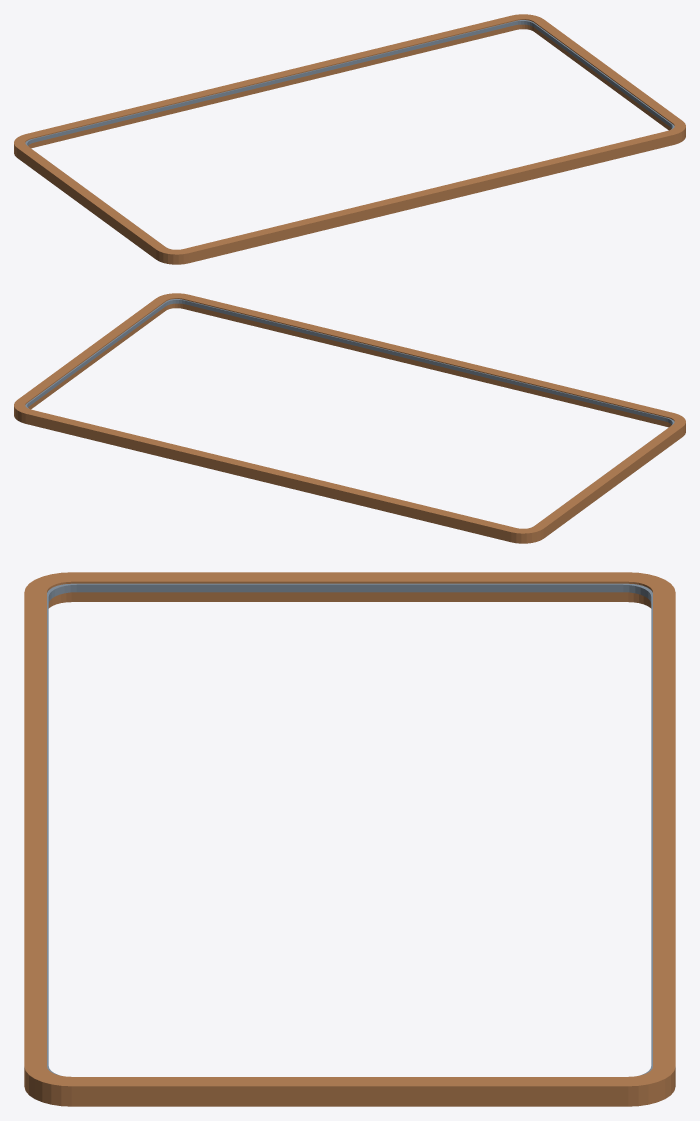
The model's file is 21_PS_Table_OuterBezelAndBumper.fbx.
The picture shows the model from 3 angles, top to bottom: view 1: azimuth 30°, elevation 25°; view 2: azimuth 150°, elevation 25°; view 3: azimuth 270°, elevation 25°; orthographic projection. The views are drawn at different scales.
Parts seen in each view (by area): view 1: PS_Table_OuterBezelAndBumper; view 2: PS_Table_OuterBezelAndBumper; view 3: PS_Table_OuterBezelAndBumper.
Boxes of the visible parts, x1,y1,x2,y2 form: PS_Table_OuterBezelAndBumper: [14, 14, 685, 264]; PS_Table_OuterBezelAndBumper: [14, 293, 685, 543]; PS_Table_OuterBezelAndBumper: [24, 572, 675, 1106].
Bounding box in the file's own units: 975 × 18 × 522.
